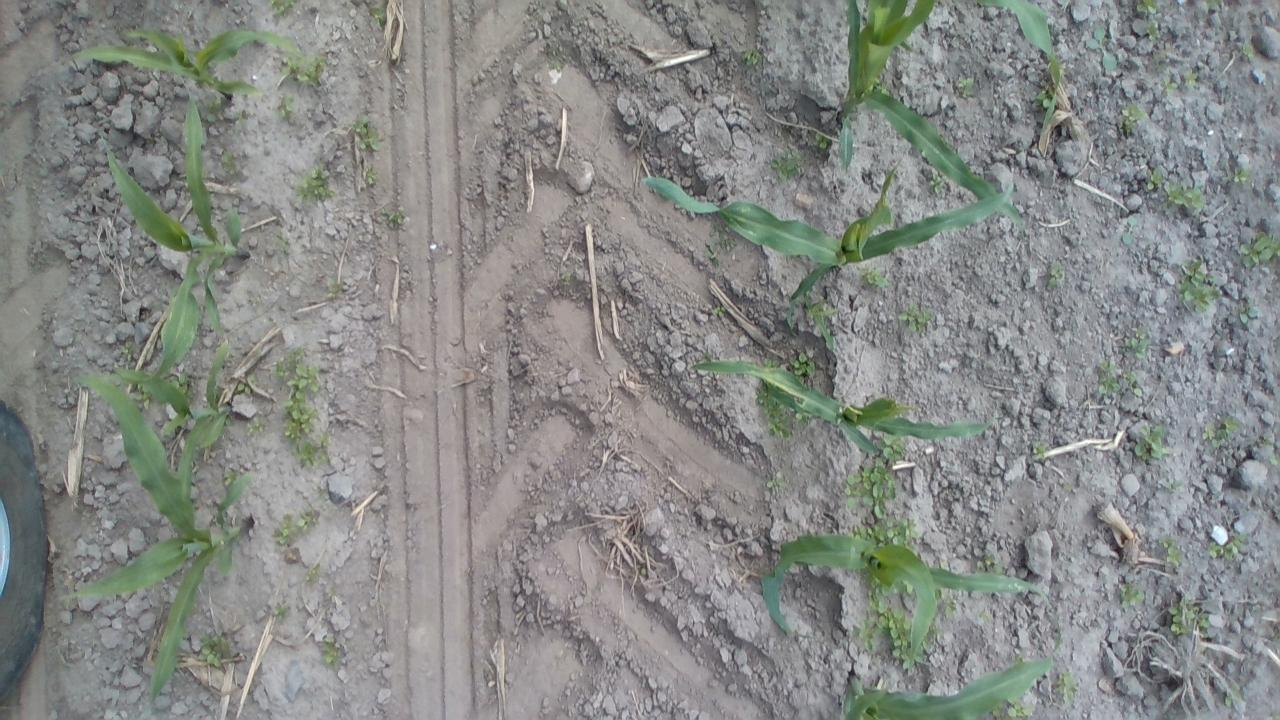Maize: (638, 160, 1026, 334), (68, 370, 250, 700), (826, 0, 1063, 231), (104, 82, 254, 384), (760, 529, 1044, 646), (690, 360, 999, 459), (119, 334, 232, 514), (79, 26, 301, 98), (840, 659, 1054, 720)
Weeds: (271, 344, 332, 468), (842, 455, 901, 517), (754, 378, 812, 439), (848, 513, 919, 558), (1177, 257, 1222, 315), (884, 606, 912, 672), (280, 44, 324, 85), (294, 164, 338, 203), (274, 511, 322, 546), (1167, 598, 1210, 636), (805, 302, 837, 351), (849, 616, 890, 653), (1239, 232, 1280, 269), (1086, 26, 1118, 71), (704, 224, 738, 266), (196, 631, 233, 669), (352, 110, 384, 153), (1202, 415, 1242, 448), (1134, 424, 1168, 462), (896, 302, 934, 332), (862, 572, 888, 615), (990, 695, 1034, 720), (771, 149, 802, 184), (1096, 360, 1122, 400), (789, 350, 817, 386), (1166, 183, 1204, 209), (877, 431, 906, 465), (1209, 535, 1248, 560), (1056, 671, 1080, 706), (1118, 103, 1146, 133), (170, 368, 196, 400), (1158, 537, 1184, 568), (1124, 328, 1148, 360), (934, 587, 958, 618), (1119, 581, 1146, 608), (318, 633, 339, 667), (200, 94, 225, 122), (860, 265, 890, 288), (234, 371, 258, 397), (1122, 370, 1144, 397), (379, 206, 410, 225), (919, 625, 944, 648), (1045, 261, 1065, 289), (976, 554, 1001, 576), (866, 77, 894, 96), (222, 150, 242, 175), (215, 336, 234, 362), (270, 0, 297, 18), (370, 0, 388, 27), (274, 93, 293, 118), (743, 46, 765, 66), (272, 230, 290, 254), (813, 130, 832, 152), (136, 383, 152, 409), (1122, 217, 1136, 246), (1237, 304, 1257, 324), (1032, 88, 1052, 108), (246, 417, 268, 434), (1145, 168, 1161, 190), (544, 48, 560, 70), (896, 402, 918, 418), (1224, 686, 1241, 706), (928, 172, 945, 192), (1144, 19, 1160, 40), (364, 164, 380, 185), (121, 340, 136, 362), (222, 468, 240, 486), (959, 76, 974, 97), (1229, 166, 1248, 182), (1136, 0, 1157, 14), (1162, 78, 1178, 96), (1240, 42, 1256, 60), (304, 562, 320, 580), (272, 606, 288, 624), (896, 578, 914, 594), (1184, 68, 1198, 88), (1032, 441, 1048, 457), (912, 646, 926, 664), (764, 477, 784, 488), (764, 356, 780, 369), (232, 110, 244, 127), (560, 270, 575, 283), (1261, 435, 1274, 450), (699, 352, 716, 363), (980, 610, 993, 624), (712, 304, 726, 317), (1206, 0, 1224, 10), (1015, 649, 1025, 665), (328, 286, 343, 296), (1166, 479, 1176, 493), (1268, 455, 1280, 465), (1055, 638, 1064, 648), (1270, 712, 1280, 720)
